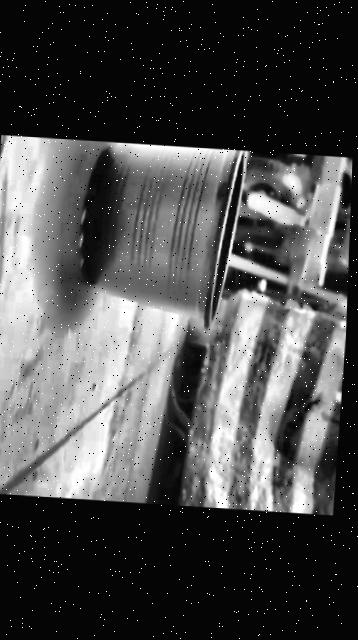pot: (75, 141, 246, 329)
